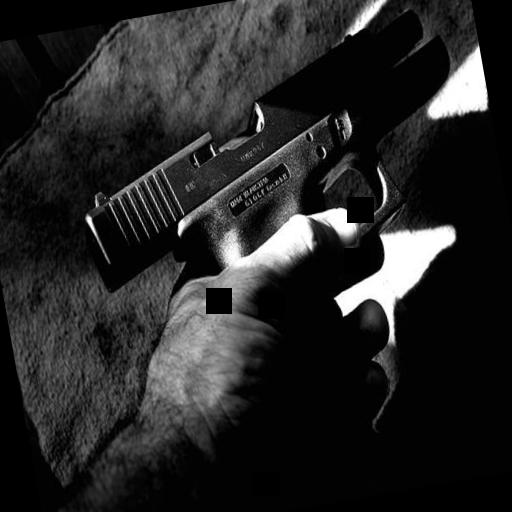Handgun: (46, 0, 493, 316)
